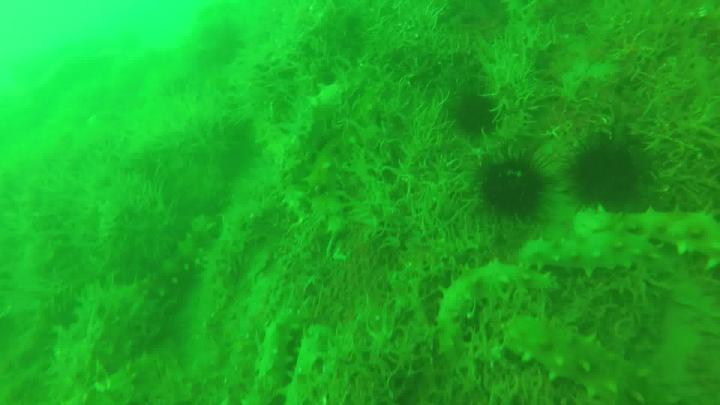echinus: (566, 135, 645, 208), (481, 147, 544, 228), (455, 92, 494, 136)
holothurian: (504, 315, 655, 405), (416, 262, 560, 348), (575, 209, 720, 273), (506, 238, 677, 272), (289, 79, 337, 188), (77, 356, 160, 405), (261, 309, 301, 405), (288, 326, 331, 405)
